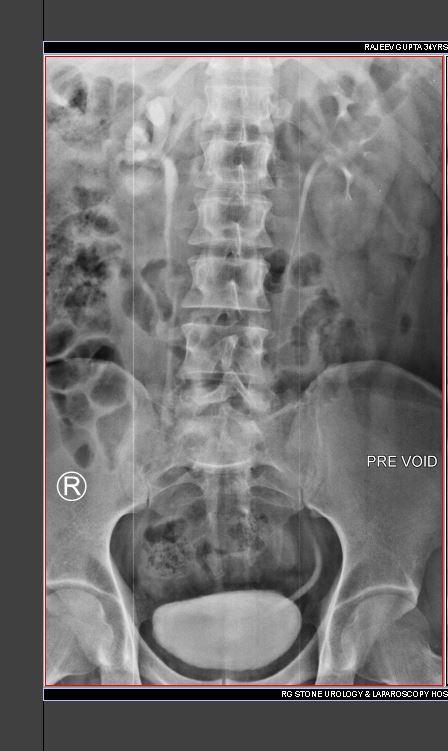bladder: (115, 618, 291, 719)
left kidney: (272, 27, 402, 246)
vertebrae: (168, 102, 260, 173)
